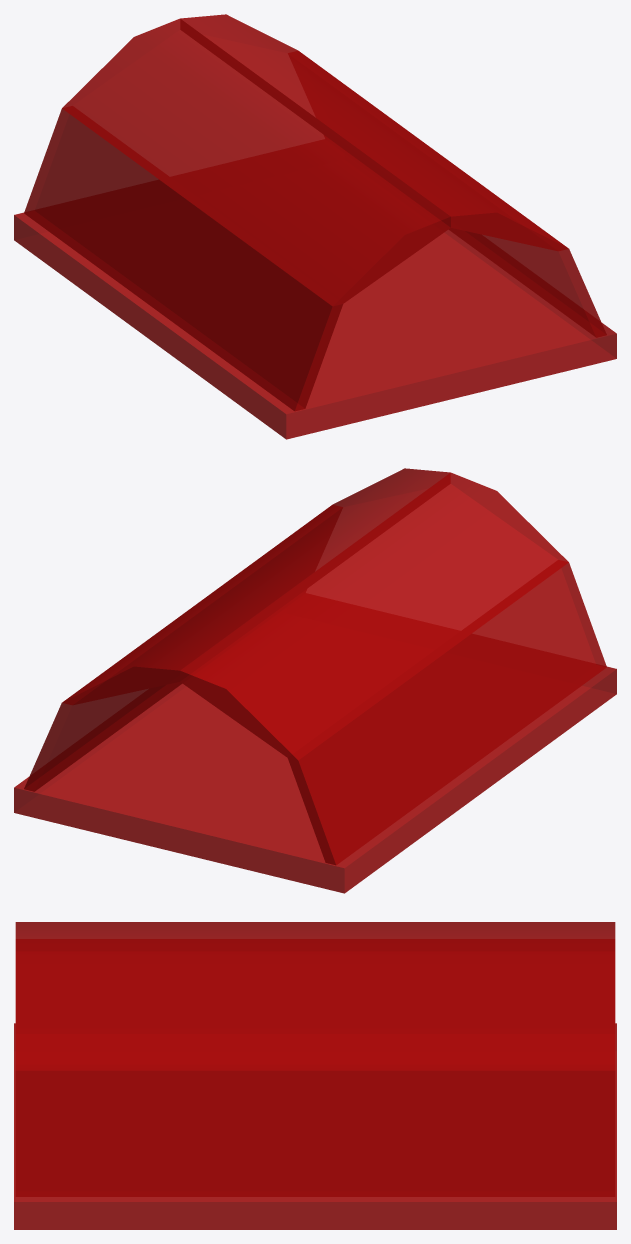
File: SM_Bld_Tent_Open_01_Collision.fbx
The picture shows the model from 3 angles, top to bottom: view 1: azimuth 30°, elevation 25°; view 2: azimuth 150°, elevation 25°; view 3: azimuth 270°, elevation 25°; orthographic projection. The views are drawn at different scales.
Visible parts, largest first — view 1: SM_Bld_Tent_Open_01_Collision; view 2: SM_Bld_Tent_Open_01_Collision; view 3: SM_Bld_Tent_Open_01_Collision.
Boxes of the visible parts, x1=… form: SM_Bld_Tent_Open_01_Collision: x1=14, y1=14, x2=616, y2=439; SM_Bld_Tent_Open_01_Collision: x1=14, y1=468, x2=616, y2=893; SM_Bld_Tent_Open_01_Collision: x1=14, y1=922, x2=616, y2=1229.
Size of the model in its own units: 768 by 404 by 1096.
